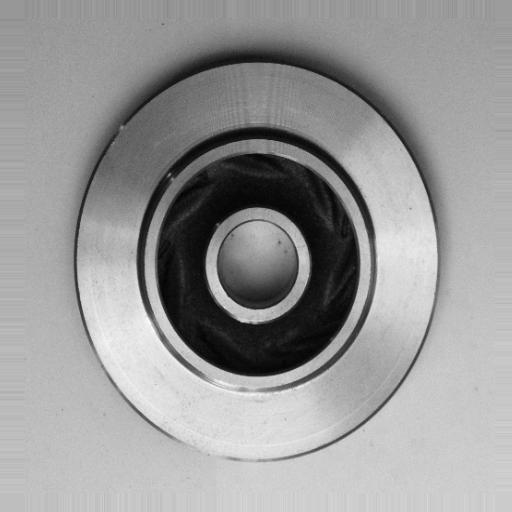scratch: (168, 426, 266, 482), (198, 362, 273, 409)
unpolished_casting: (72, 55, 444, 470)
